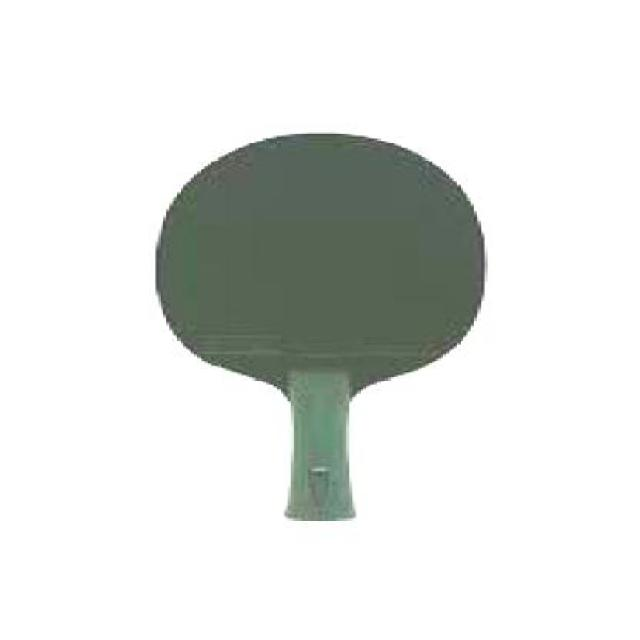table_tennis_racket: (150, 125, 485, 402)
